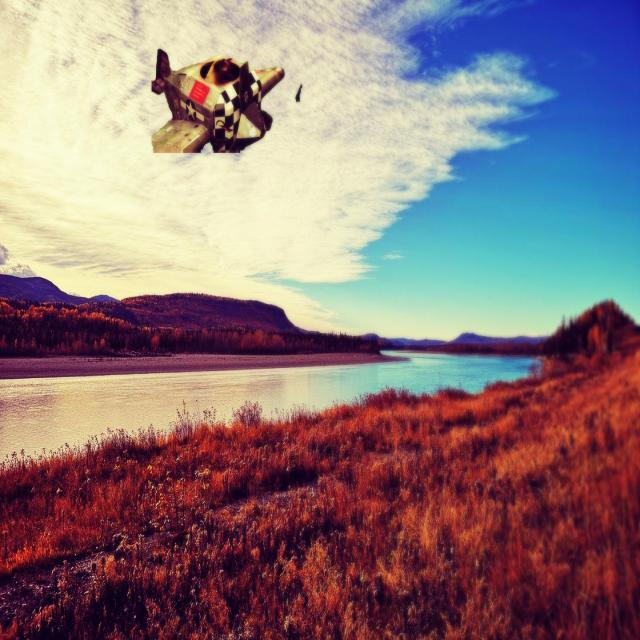airplane: (150, 47, 285, 154)
